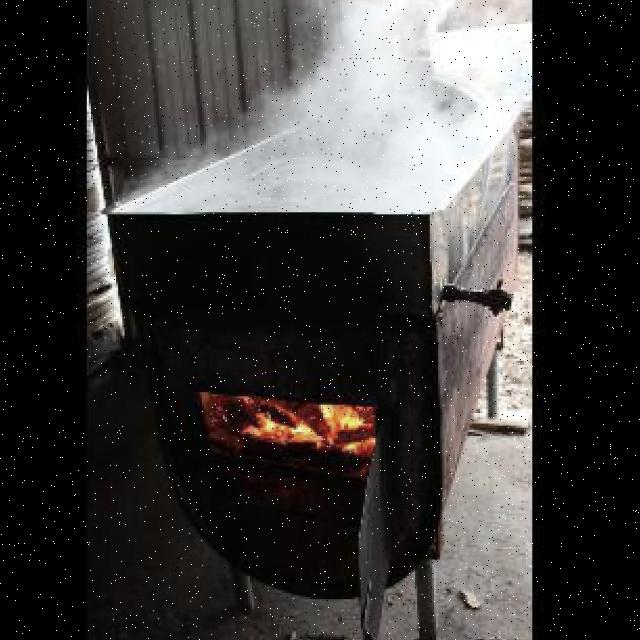fire: (242, 402, 378, 444)
smoke: (106, 0, 532, 216)
